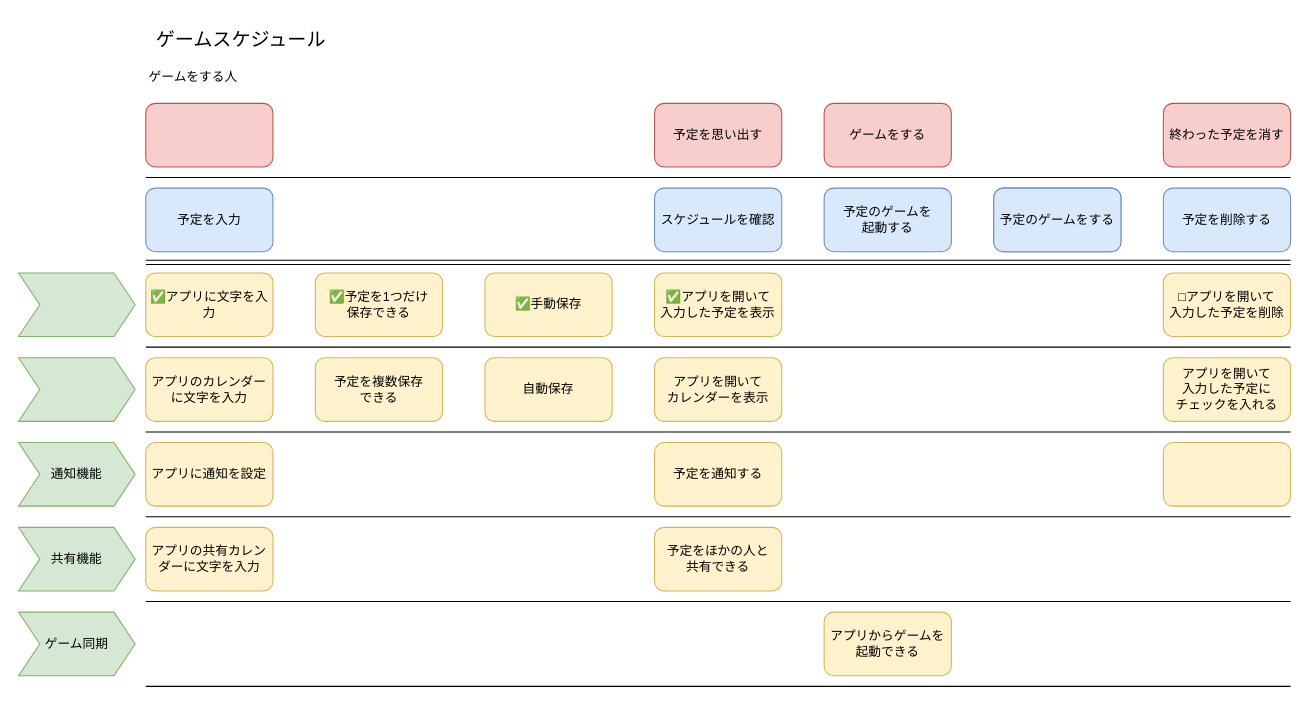
The diagram is 1310 pixels wide and 706 high, and some of its shapes have lost their labels. Each missing label, with the box of its shape:
ウォーキングスケルトン: (17, 272, 135, 337)
ゲームのスコアを 記録できる: (1162, 441, 1291, 506)
タスクリスト: (17, 357, 135, 421)
予定を入れる: (145, 102, 273, 167)
